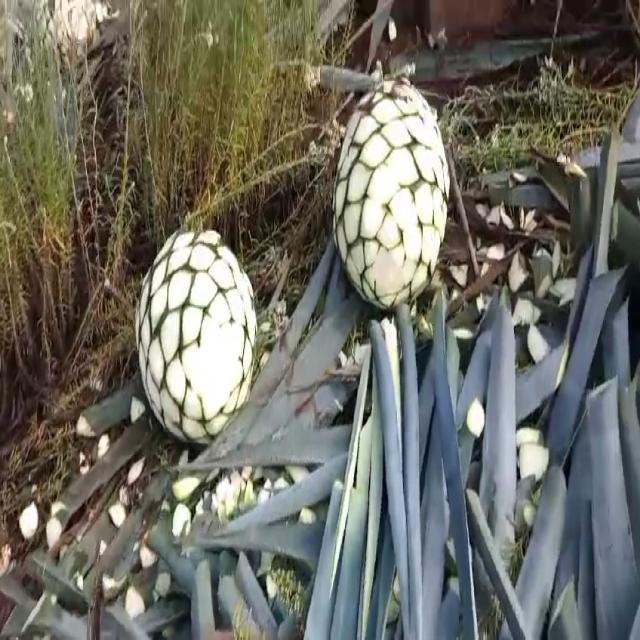agave: (329, 65, 458, 325), (130, 219, 262, 443)
